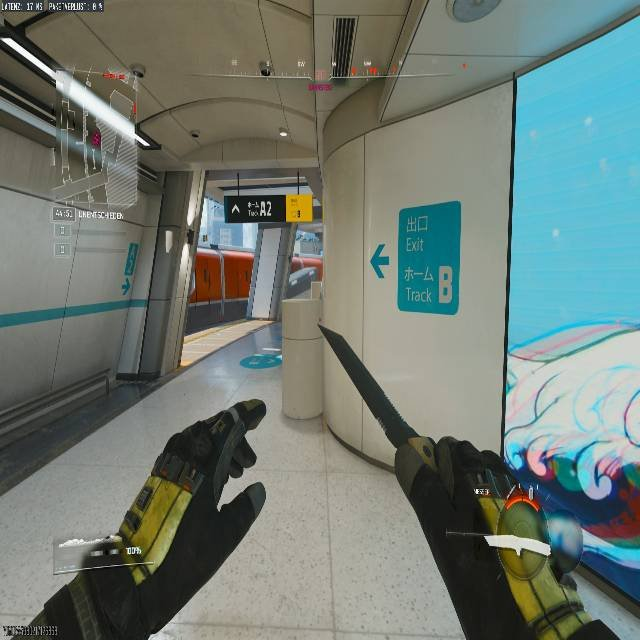head: (503, 318, 640, 528)
